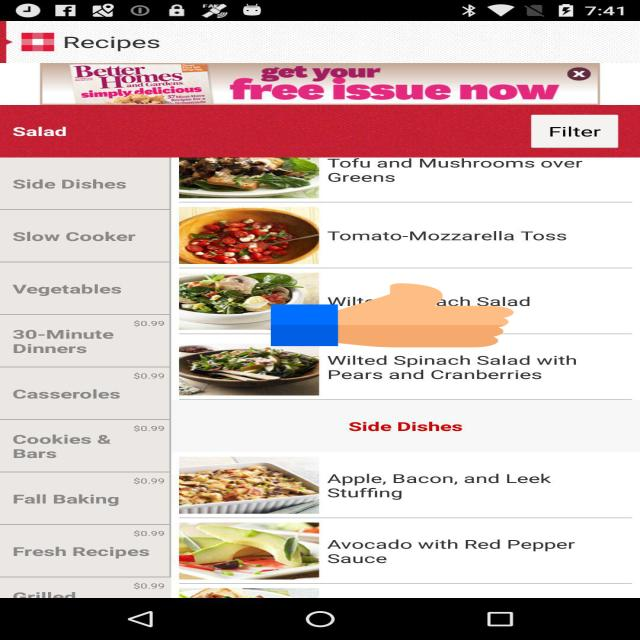privacy zuckering: (271, 282, 514, 349)
